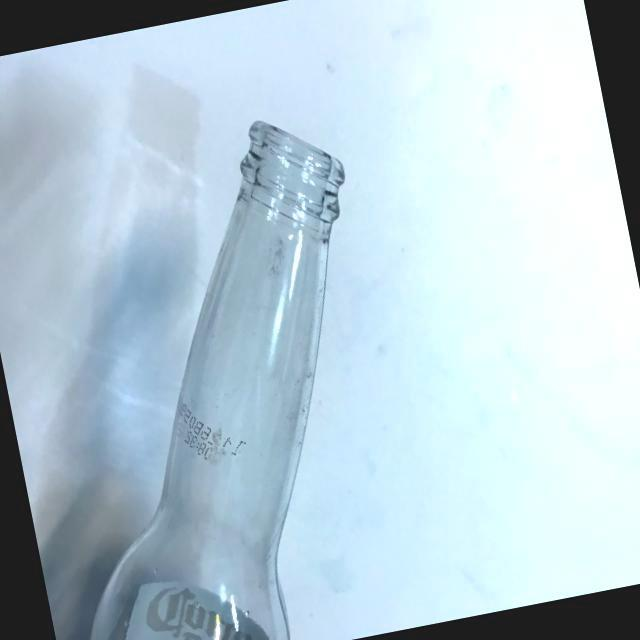glass: (0, 87, 451, 640)
